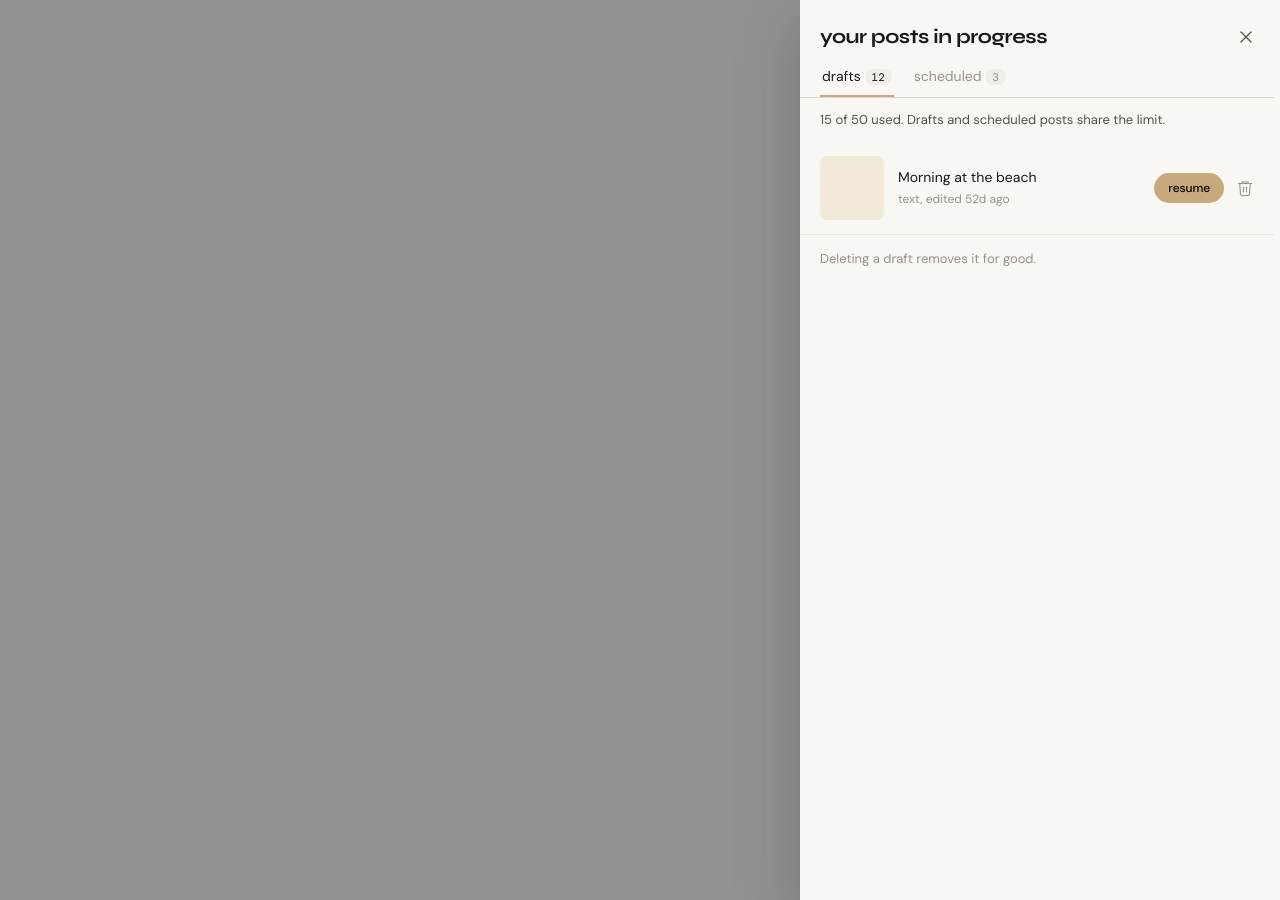
Test: DraftsPanel › keeps the draft when the person chooses keep
Click the button named "delete draft" at (1245, 188), box [1230,172,1260,202]
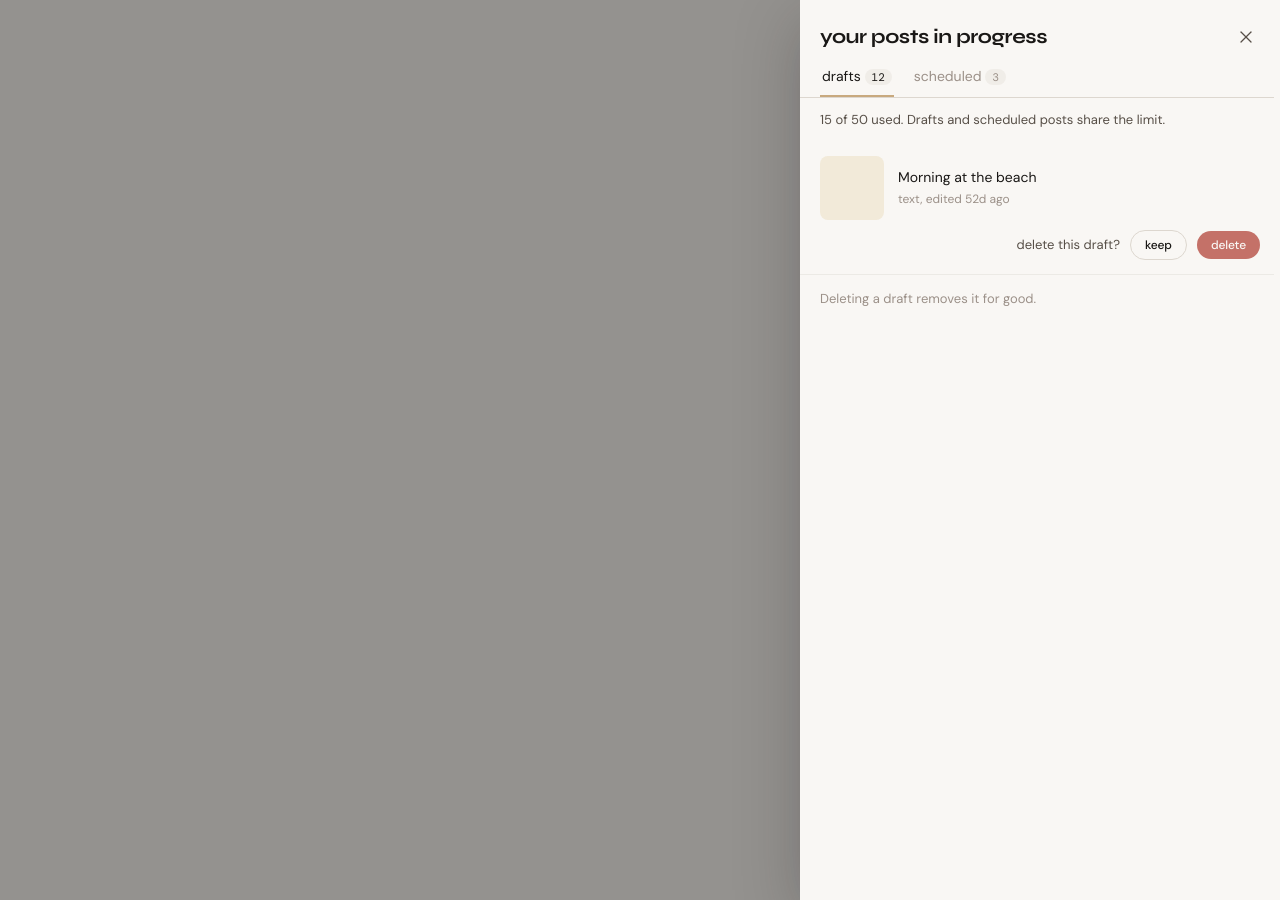
Click the button "keep" at (1158, 244), box [1130,230,1187,260]
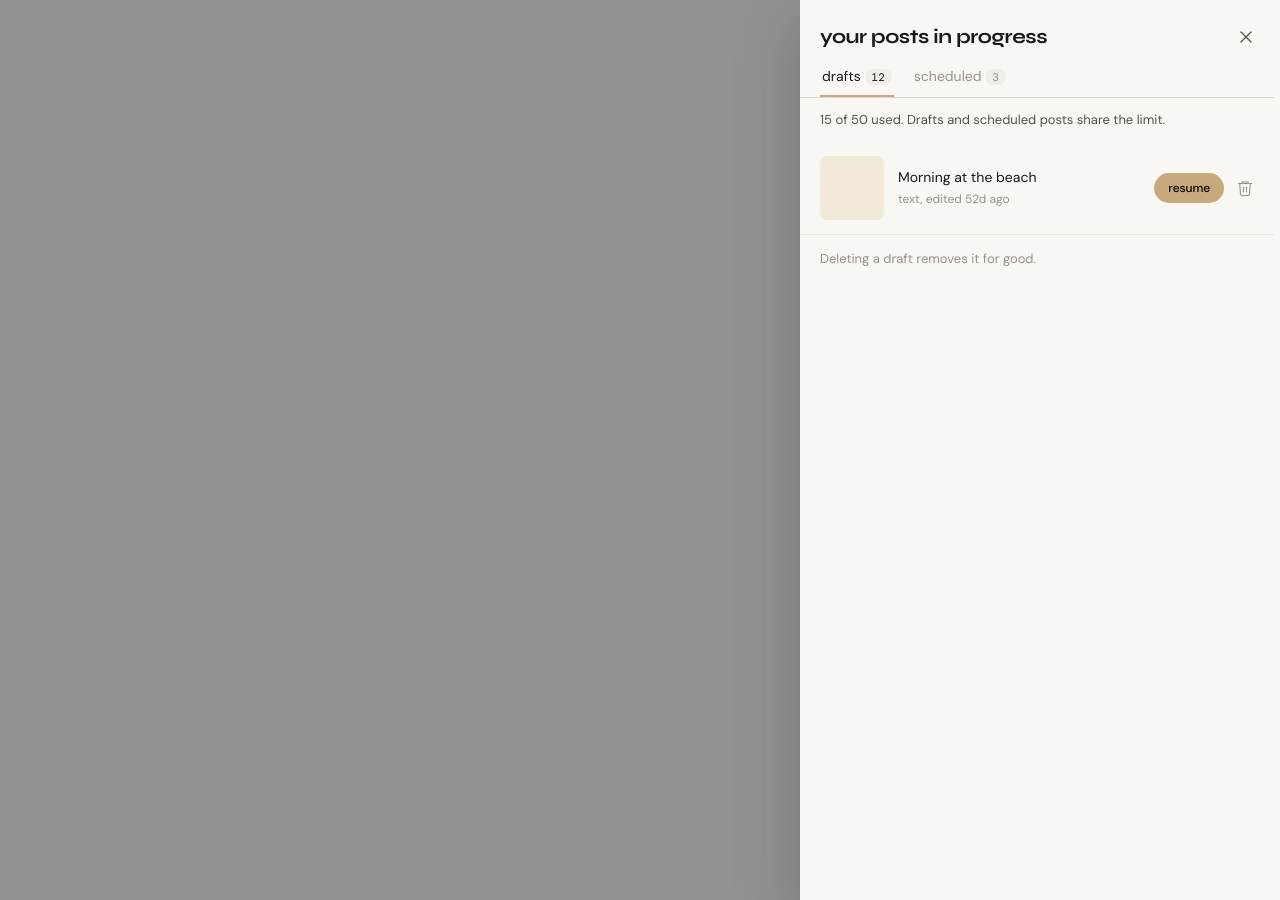
Expected: the button "resume" is shown, [1154,172,1224,202]
